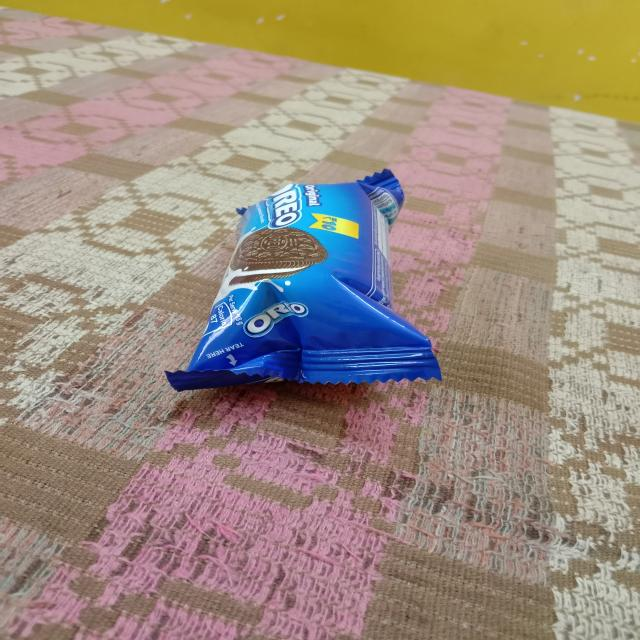oreo biscuit: (165, 166, 450, 406)
